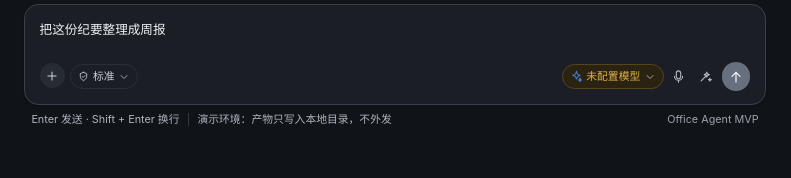
Test: Composer 发送按钮 › 没有可用模型（modelBlocked）：写了内容也拦住，提示怎么把模型配上
Click the button named "发送". click: (736, 77)
box: [722, 62, 750, 91]
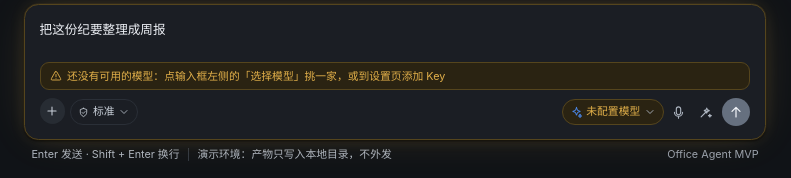
Check: the message shows "还没有可用的模型", box [67, 70, 445, 83]
